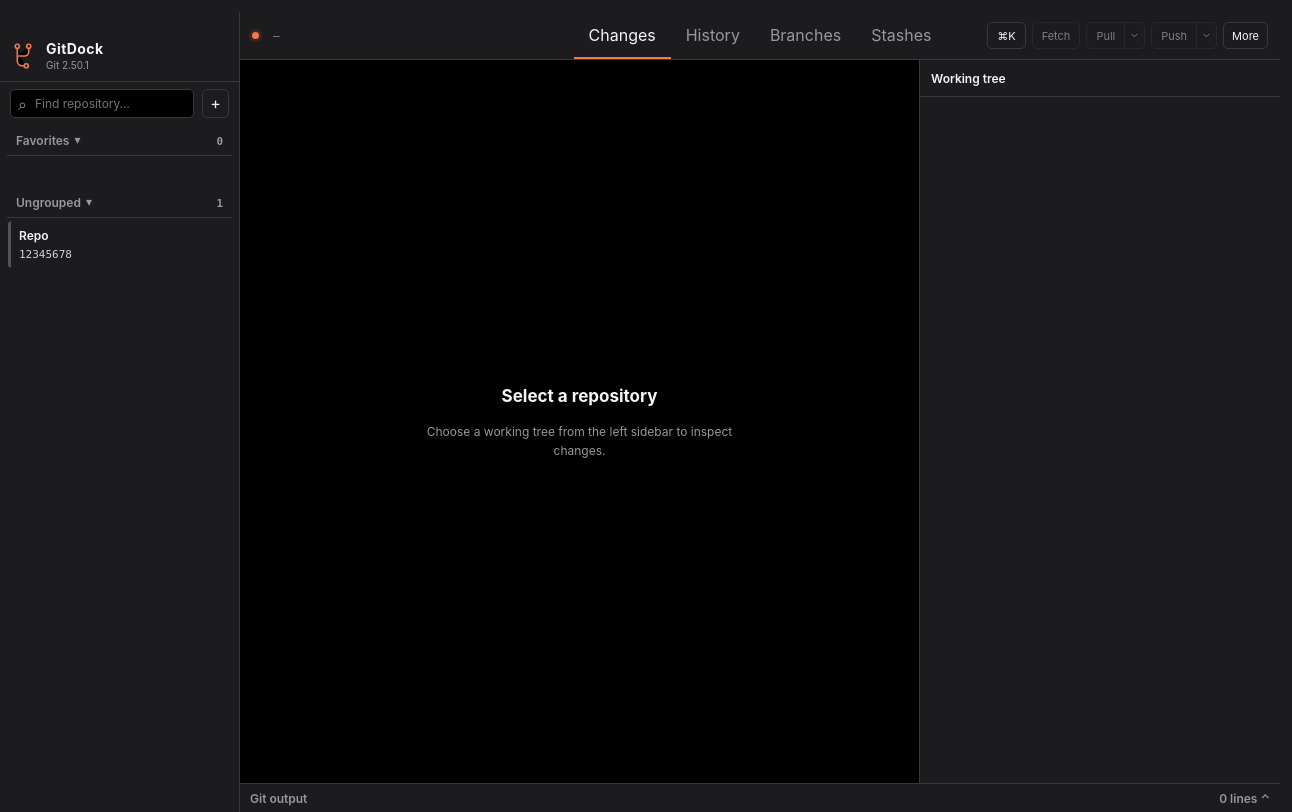
Test case: shows the unfiltered empty state when a repository has no branches
Click the button with class "repo-row" at coordinates (120, 244), box [7,220,232,269]
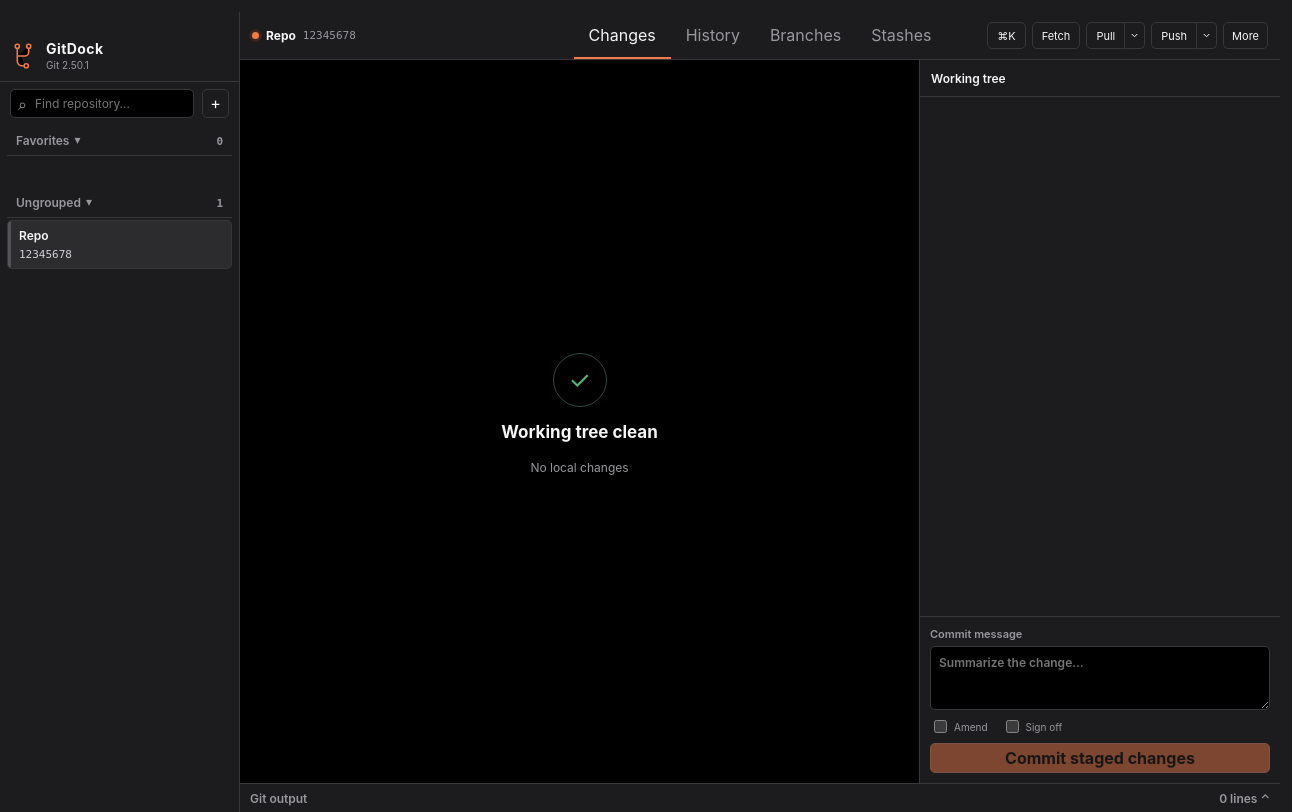
Click the tab "Branches" at coordinates (806, 36), box [755,12,856,59]
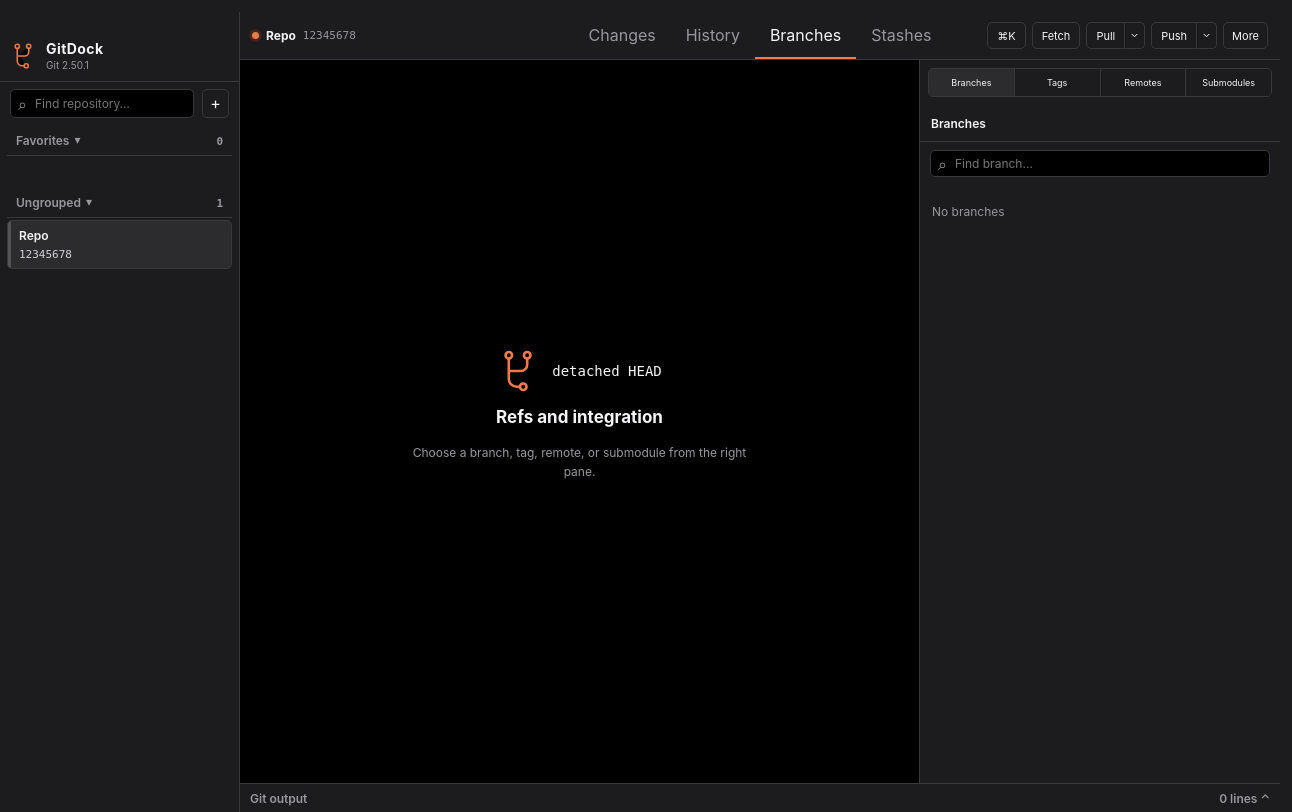
Now the text "No branches" is shown, box [932,204,1005,219]
